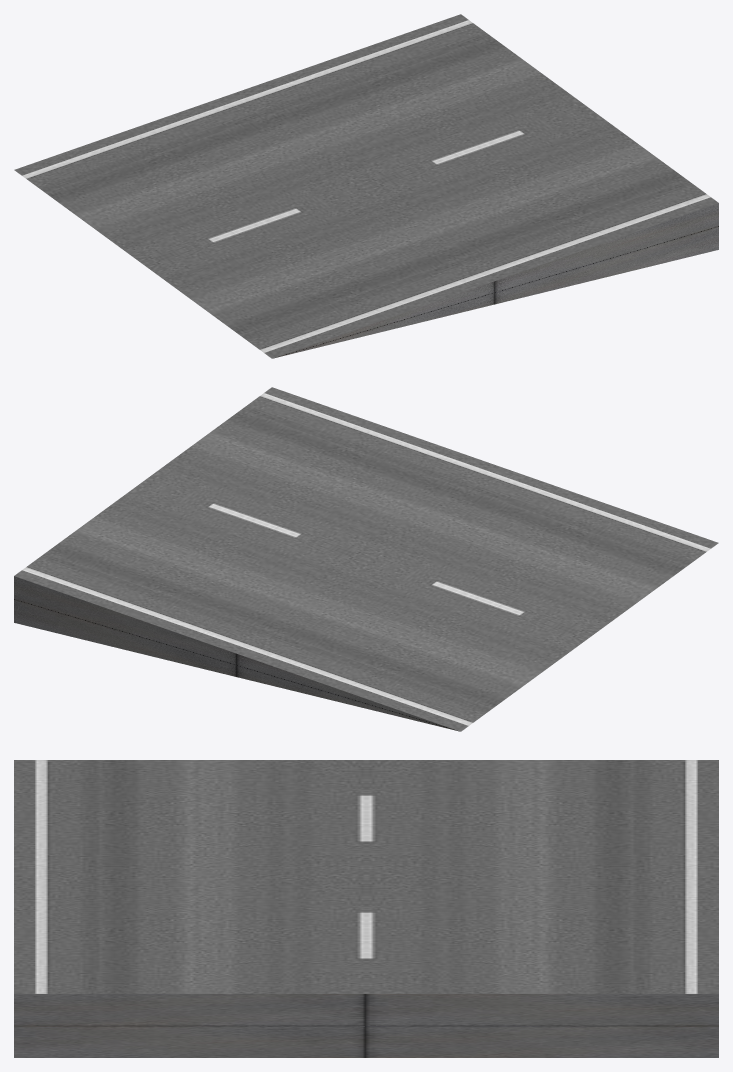
The model's file is uphill5.fbx.
The picture shows the model from 3 angles, top to bottom: view 1: azimuth 30°, elevation 25°; view 2: azimuth 150°, elevation 25°; view 3: azimuth 270°, elevation 25°; orthographic projection. The views are drawn at different scales.
Visible parts, largest first — view 1: 1,1,1; view 2: 1,1,1; view 3: 1,1,1.
Part boxes in pixels (left/top/right/bottom): 1,1,1: left=14, top=14, right=718, bottom=358; 1,1,1: left=14, top=387, right=718, bottom=731; 1,1,1: left=14, top=760, right=718, bottom=1057.
Size of the model in its own units: 394 by 39.37 by 394.
Materials: 2 (2 with a texture image).
